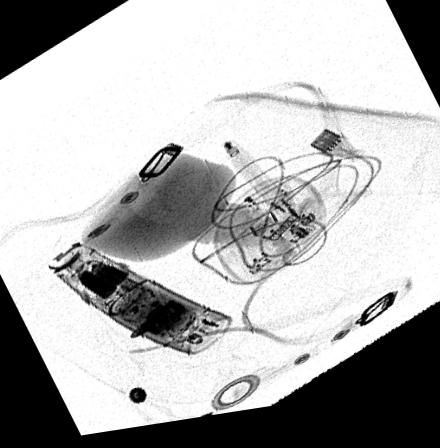Baton: (47, 242, 234, 362)
